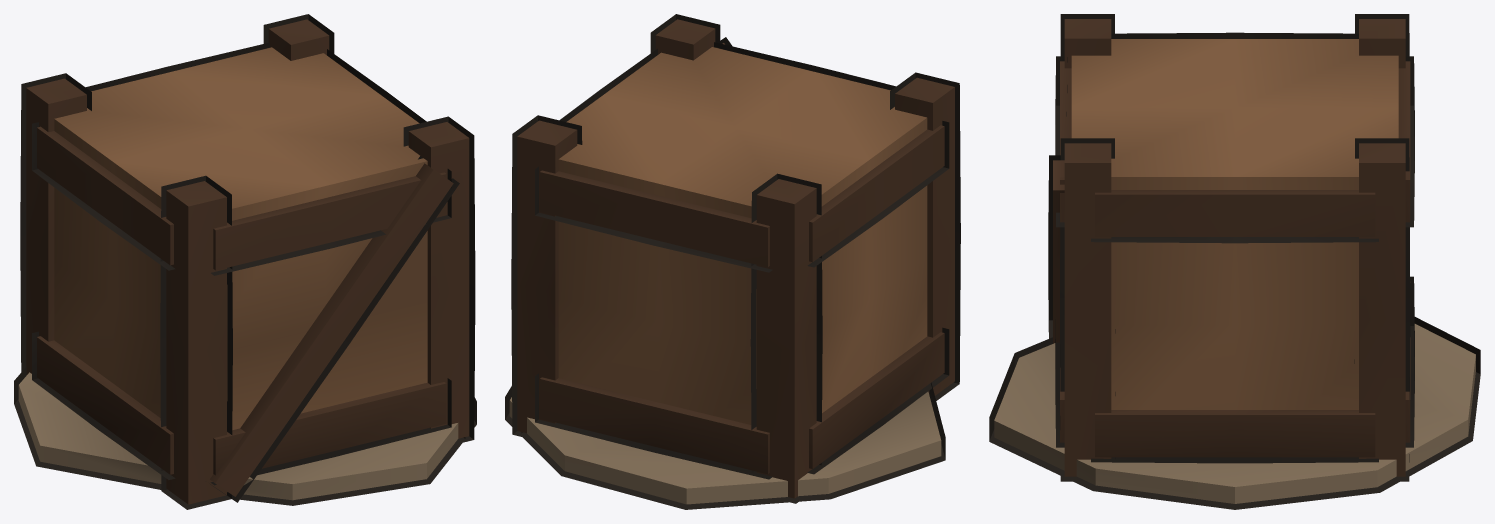
The model's file is caisse.glb.
The picture shows the model from 3 angles, left to right: view 1: azimuth 30°, elevation 25°; view 2: azimuth 150°, elevation 25°; view 3: azimuth 270°, elevation 25°; orthographic projection. The views are drawn at different scales.
Visible parts, largest first — view 1: caisse, caisse_outline; view 2: caisse, caisse_outline; view 3: caisse, caisse_outline.
Boxes of the visible parts, bbox=[...] form: caisse: bbox=[18, 19, 469, 504]; caisse_outline: bbox=[14, 14, 476, 509]; caisse: bbox=[509, 19, 954, 504]; caisse_outline: bbox=[505, 14, 960, 509]; caisse: bbox=[994, 19, 1475, 503]; caisse_outline: bbox=[989, 14, 1480, 509].
Bounding box in the file's own units: 1.07 × 0.7621 × 1.05.
